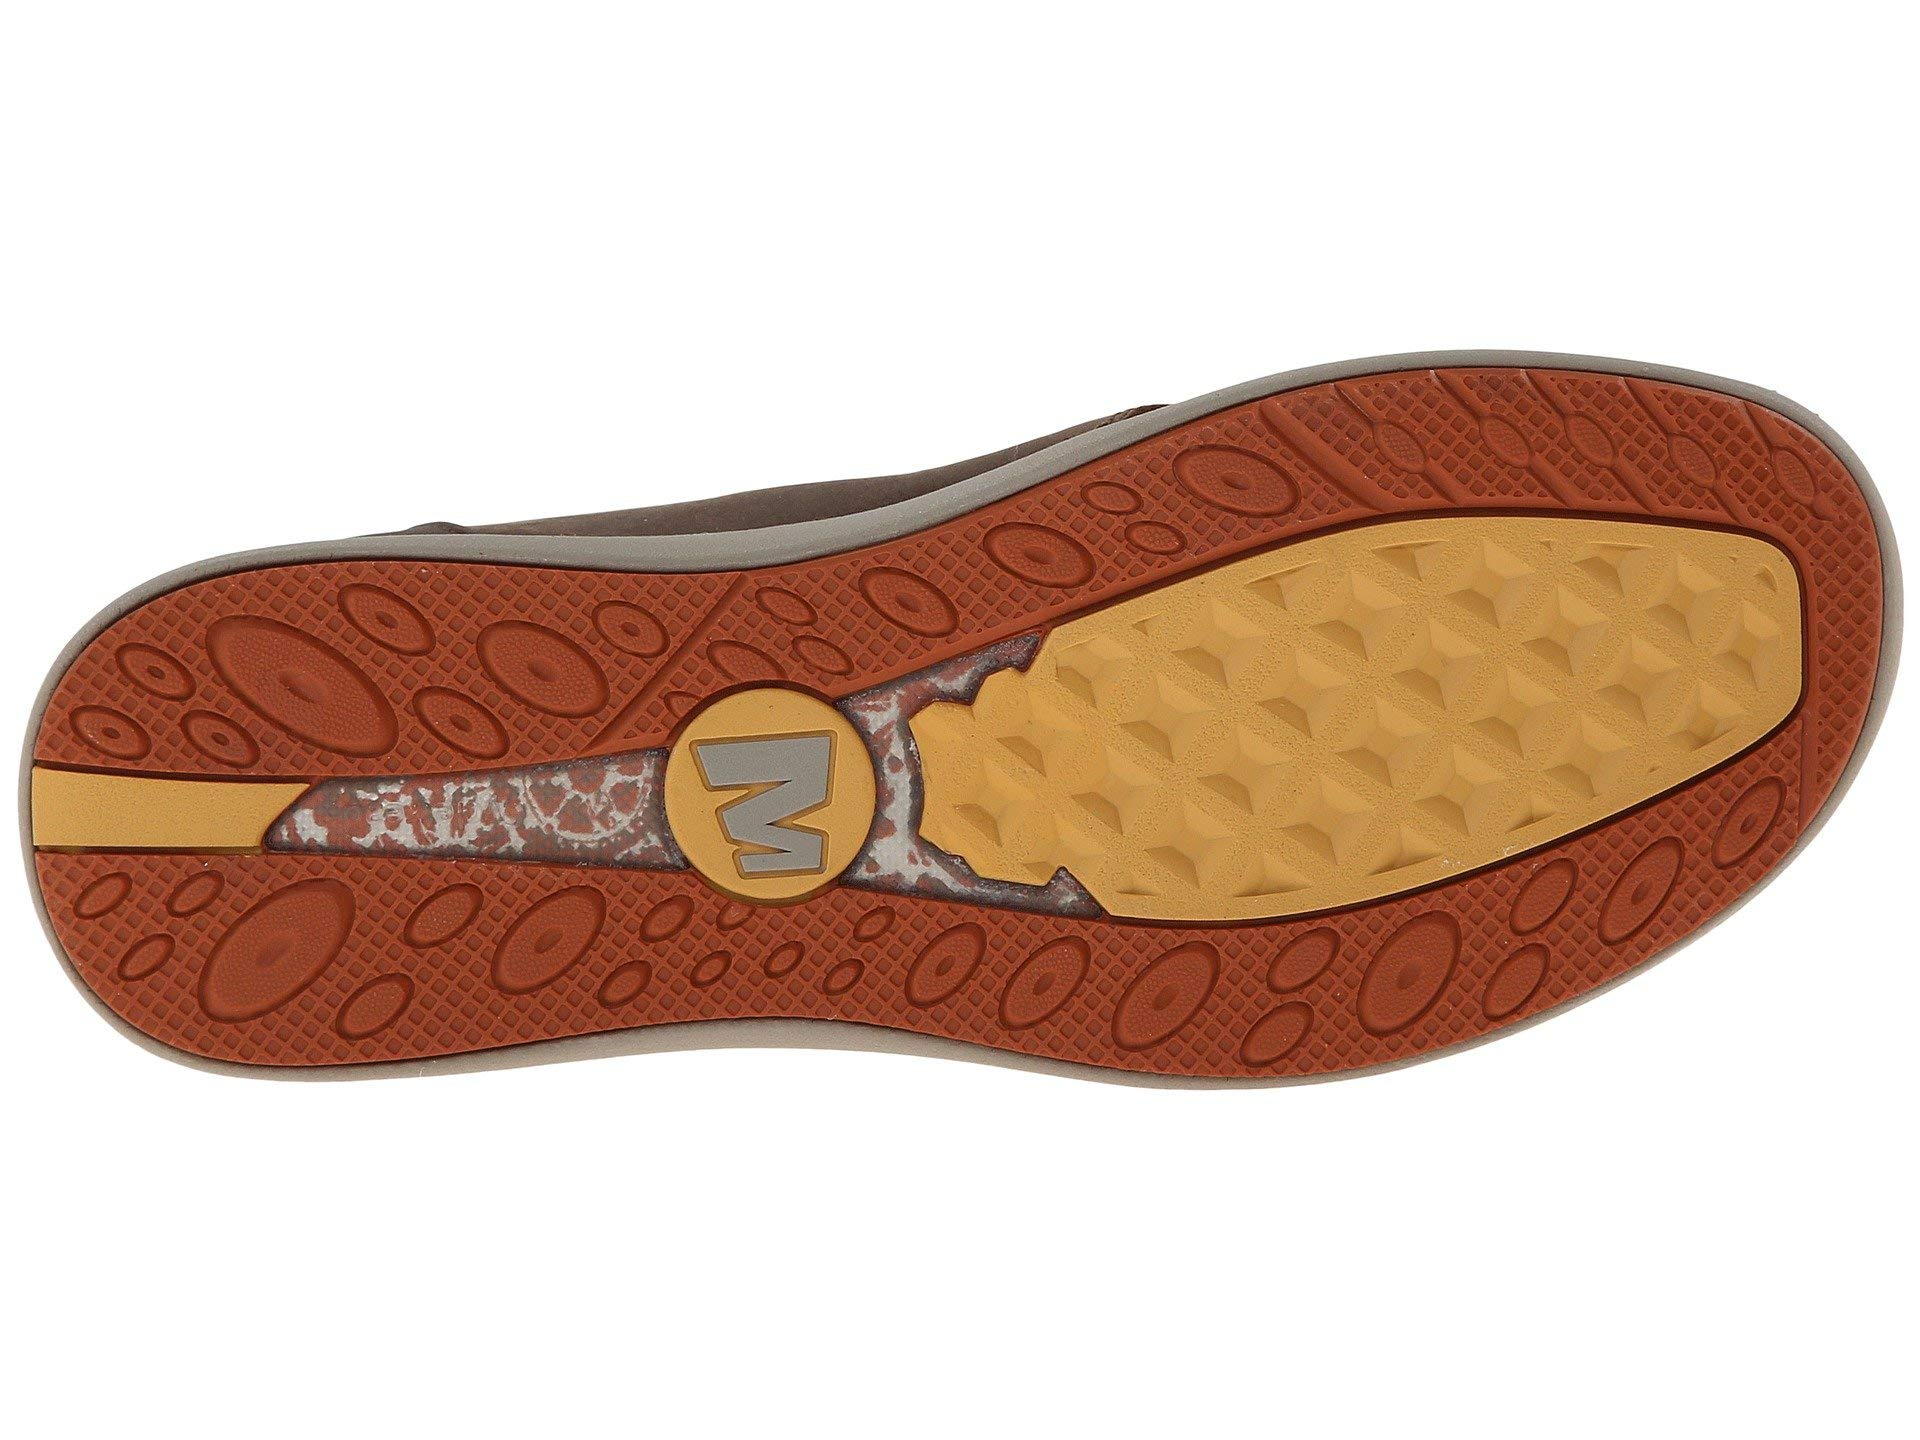circle: (1095, 424, 1639, 992), (151, 569, 581, 777), (665, 672, 880, 915)
line: (1095, 424, 1639, 992)
quad: (1095, 424, 1639, 992), (151, 569, 581, 777), (665, 672, 880, 915)
text: (665, 672, 880, 915)
